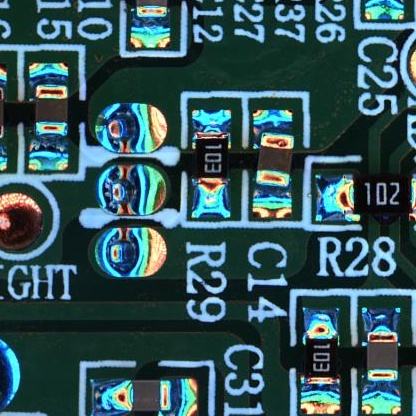spot: (88, 226, 167, 279), (94, 163, 167, 217), (96, 103, 168, 153), (1, 192, 45, 253)
